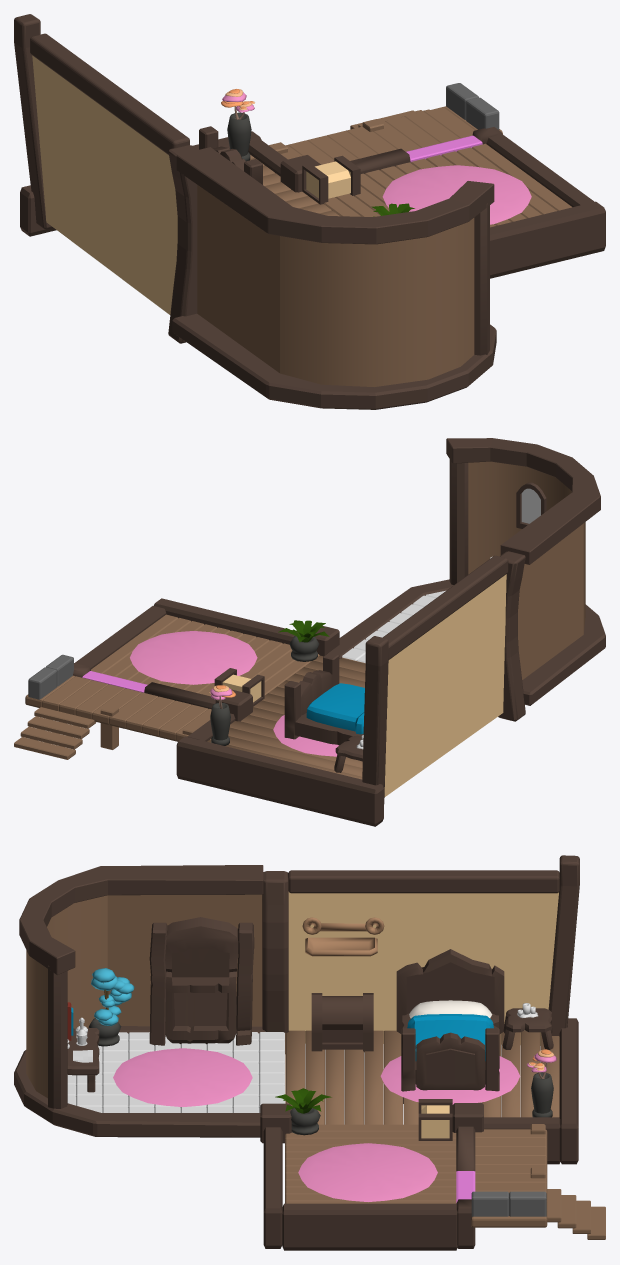
File: MageInteriorDecorated.fbx
3 renders of one model, top to bottom at view 1: azimuth 30°, elevation 25°; view 2: azimuth 150°, elevation 25°; view 3: azimuth 270°, elevation 25°, orthographic. The views are drawn at different scales.
Visible parts, largest first — view 1: ColouredHouse.036, ColouredHouse.032, Cube.007, ColouredHouse.031, ColouredHouse.002, ColouredHouse.034, Alfombra_1, Cube.011, Cylinder.005, Cube.004, Cube.005, Cube.012 (+2 smaller); view 2: ColouredHouse.036, ColouredHouse.032, Cube.007, ColouredHouse.002, ColouredHouse.034, Cube.005, Alfombra_1, ColouredHouse.031, Cube.011, Cube.001, Cylinder.001, Cube.006 (+7 smaller); view 3: ColouredHouse.036, ColouredHouse.032, ColouredHouse.034, Cube.007, Cube.005, Armario, ColouredHouse.002, Cube.006, ColouredHouse.031, Alfombra_1.002, Alfombra_1, Cube.011 (+13 smaller).
Boxes of the visible parts, bbox=[...] form: ColouredHouse.036: bbox=[14, 14, 494, 386]; ColouredHouse.032: bbox=[32, 55, 177, 314]; Cube.007: bbox=[20, 127, 605, 278]; ColouredHouse.031: bbox=[172, 313, 496, 409]; ColouredHouse.002: bbox=[269, 83, 502, 164]; ColouredHouse.034: bbox=[250, 143, 571, 227]; Alfombra_1: bbox=[382, 165, 531, 224]; Cube.011: bbox=[474, 203, 489, 355]; Cylinder.005: bbox=[221, 89, 254, 161]; Cube.004: bbox=[302, 155, 360, 204]; Cube.005: bbox=[199, 126, 262, 184]; Cube.012: bbox=[306, 161, 350, 198]; ColouredHouse.036: bbox=[362, 438, 600, 803]; ColouredHouse.032: bbox=[384, 574, 506, 796]; Cube.007: bbox=[73, 598, 383, 826]; ColouredHouse.002: bbox=[14, 654, 211, 759]; ColouredHouse.034: bbox=[91, 614, 365, 779]; Cube.005: bbox=[284, 652, 364, 745]; Alfombra_1: bbox=[130, 631, 257, 684]; ColouredHouse.031: bbox=[329, 579, 605, 705]; Cube.011: bbox=[449, 459, 468, 584]; Cube.001: bbox=[215, 625, 339, 721]; Cylinder.001: bbox=[278, 620, 329, 661]; Cube.006: bbox=[342, 590, 445, 662]; ColouredHouse.036: bbox=[19, 855, 579, 1098]; ColouredHouse.032: bbox=[288, 892, 558, 1045]; ColouredHouse.034: bbox=[285, 1030, 559, 1203]; Cube.007: bbox=[263, 1018, 578, 1250]; Cube.005: bbox=[396, 949, 504, 1103]; Armario: bbox=[149, 917, 254, 1045]; ColouredHouse.002: bbox=[471, 1124, 605, 1239]; Cube.006: bbox=[67, 1032, 284, 1112]; ColouredHouse.031: bbox=[14, 1026, 265, 1137]; Alfombra_1.002: bbox=[113, 1048, 252, 1106]; Alfombra_1: bbox=[298, 1143, 437, 1201]; Cube.011: bbox=[48, 965, 67, 1108].
Size of the model in its own units: 1324 by 623 by 1642.
